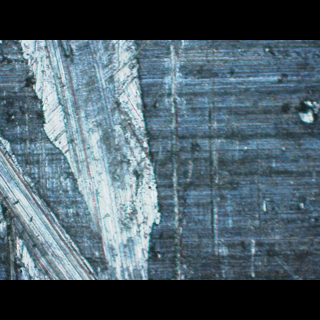d: (0, 40, 168, 278), (282, 94, 319, 128)
